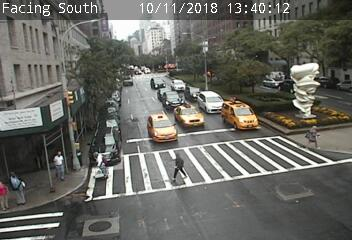car: (222, 101, 259, 130), (91, 128, 119, 164), (147, 114, 176, 143), (173, 105, 204, 129), (198, 91, 226, 114), (163, 91, 183, 110), (278, 80, 301, 93), (185, 87, 205, 101), (157, 88, 174, 102), (263, 78, 282, 87), (171, 80, 185, 92), (151, 77, 165, 89)
